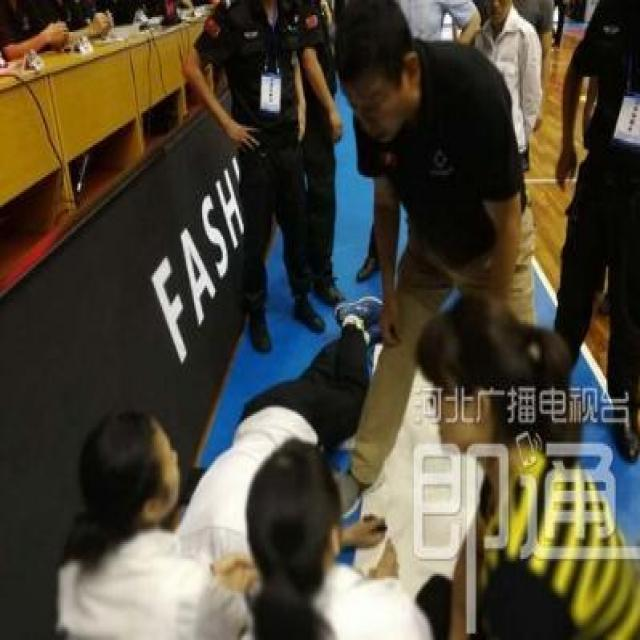fall: (175, 273, 398, 621)
